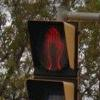Traffic light: (18, 11, 84, 92)
